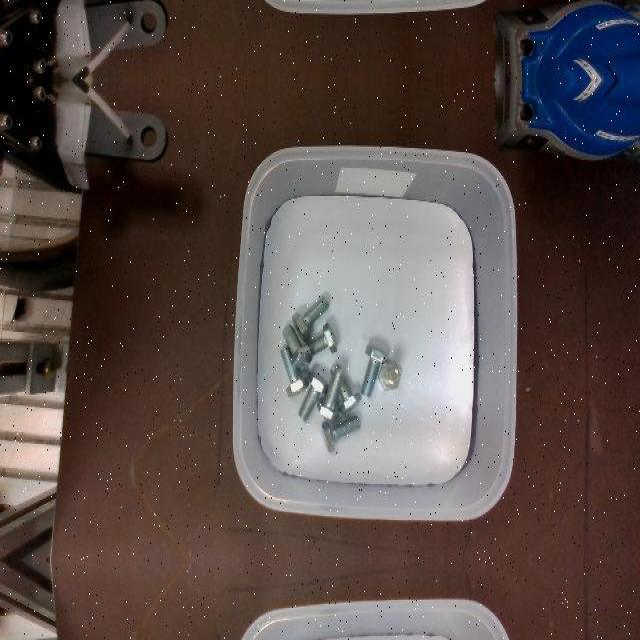screw: (292, 295, 329, 341), (298, 371, 329, 421), (360, 344, 388, 398), (282, 323, 312, 373), (321, 415, 360, 453), (317, 368, 344, 420), (377, 360, 401, 390)
